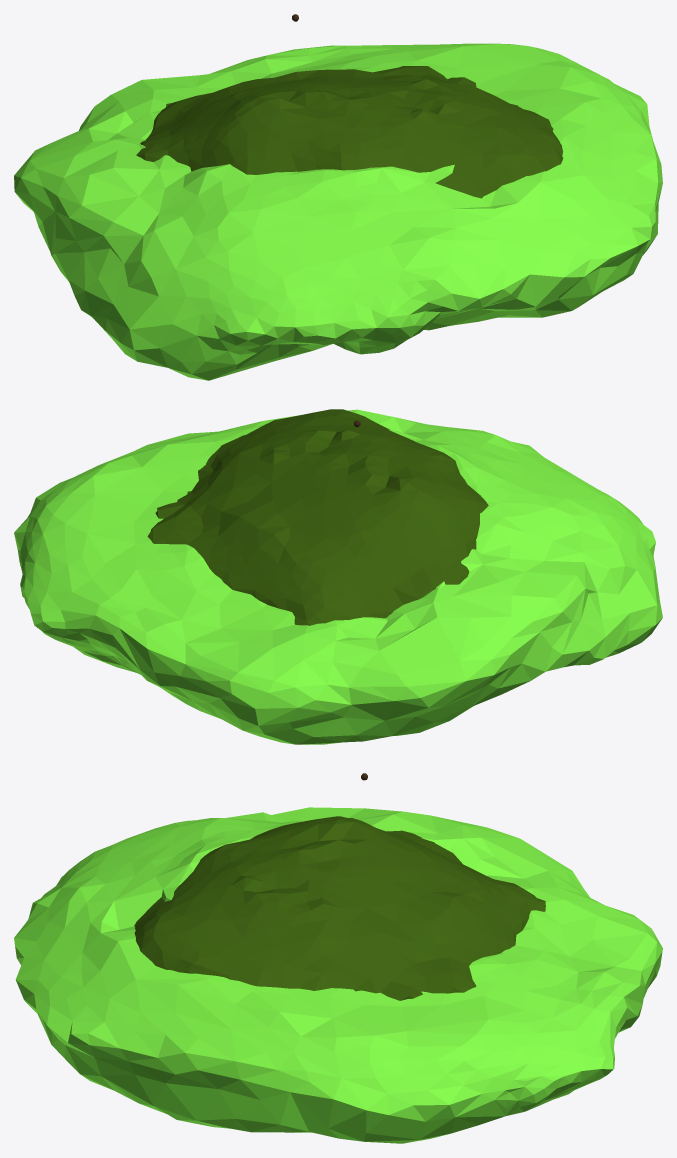
File: low poly island 8.fbx
The picture shows the model from 3 angles, top to bottom: view 1: azimuth 30°, elevation 25°; view 2: azimuth 150°, elevation 25°; view 3: azimuth 270°, elevation 25°; orthographic projection. The views are drawn at different scales.
Parts seen in each view (by area): view 1: island, grass; view 2: island, grass; view 3: island, grass.
Part boxes in pixels (<box>): island: <box>14,43,662,380</box>; grass: <box>136,66,563,198</box>; island: <box>14,409,662,744</box>; grass: <box>147,409,488,625</box>; island: <box>14,807,662,1143</box>; grass: <box>134,816,545,1000</box>.
Bounding box in the file's own units: 202444 × 81174 × 190647.
